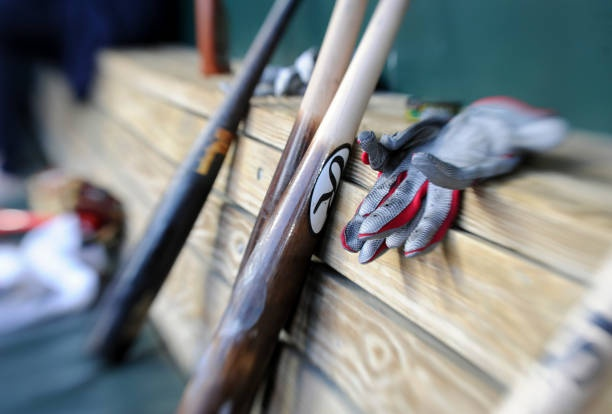bita: (180, 2, 406, 414)
